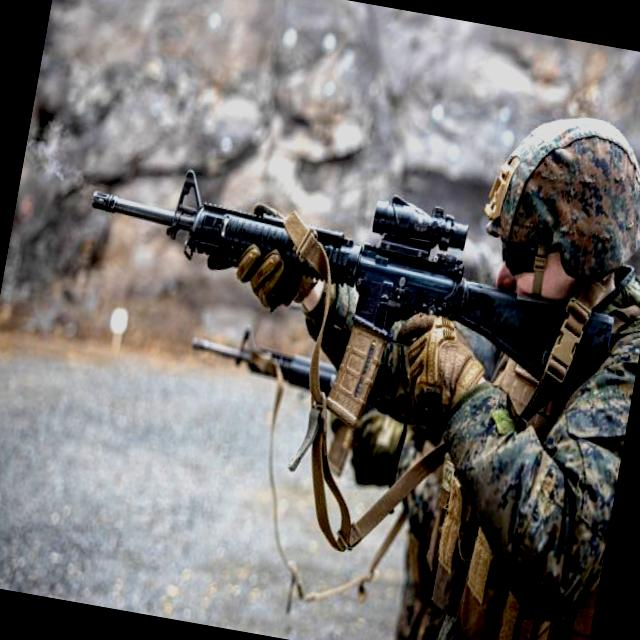m16: (47, 106, 640, 413)
